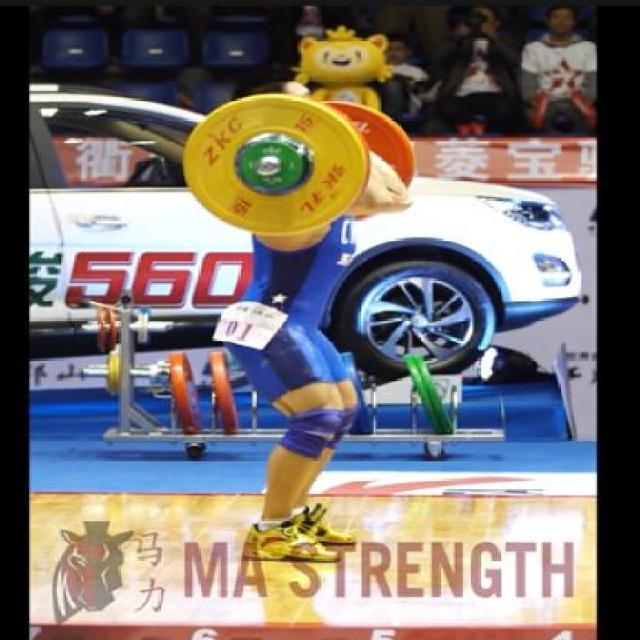Barbell: (244, 156, 282, 178)
